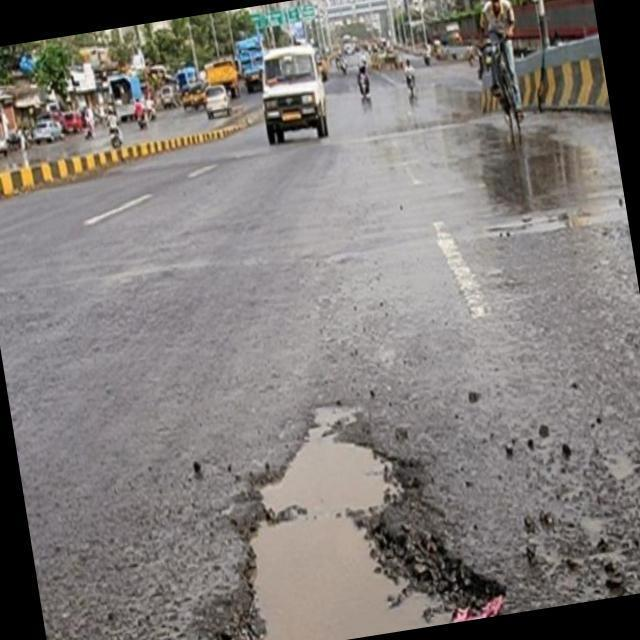Pothole: (251, 440, 454, 640)
